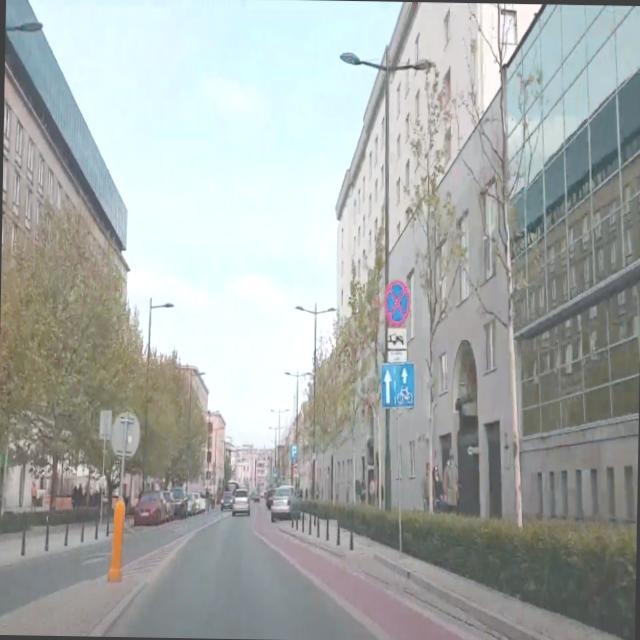Zakaz zatrzymywania sie: (384, 278, 411, 326)
